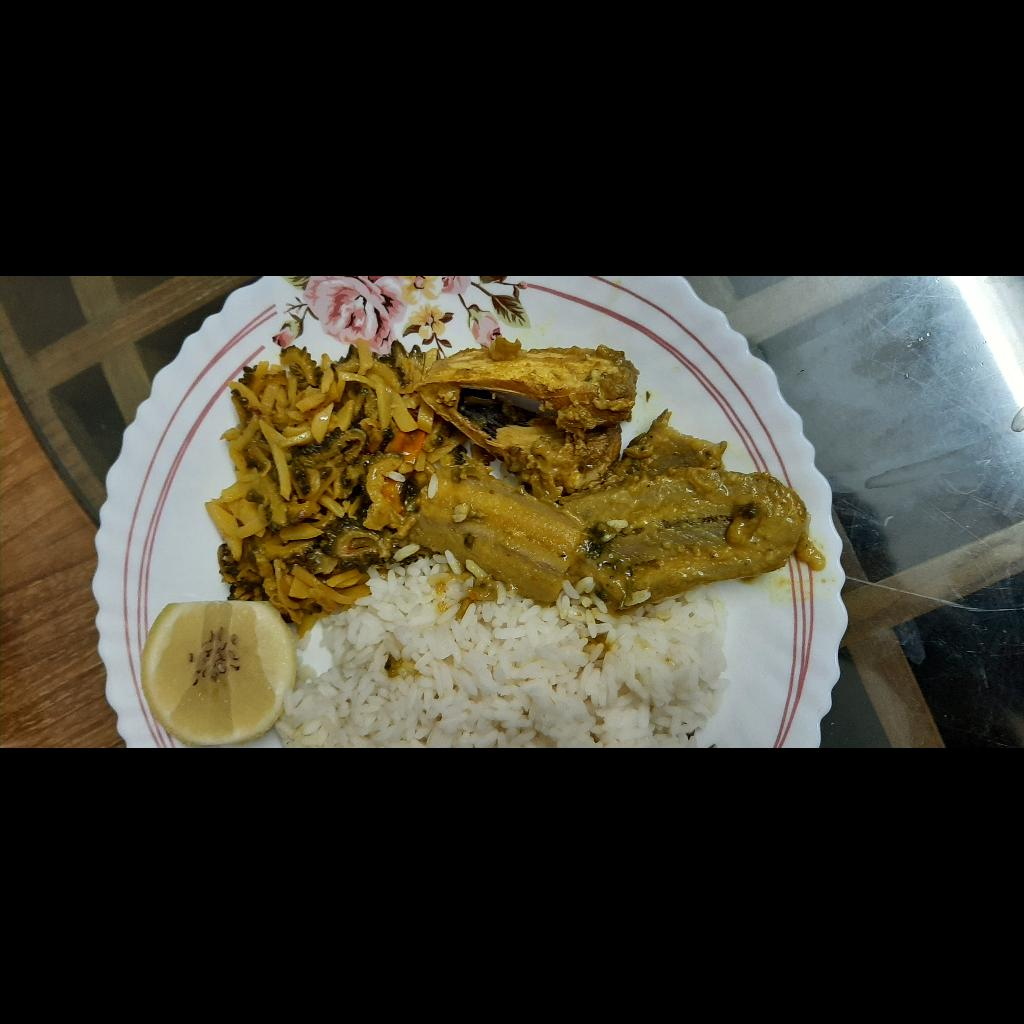banana: (139, 689, 339, 1024)
fish: (248, 683, 410, 916)
korola-vaji: (180, 559, 353, 786), (359, 653, 404, 721), (150, 494, 205, 533), (358, 549, 404, 595)
lemon: (0, 416, 150, 572)
potato: (124, 475, 412, 705)
rice: (1, 549, 209, 999)
